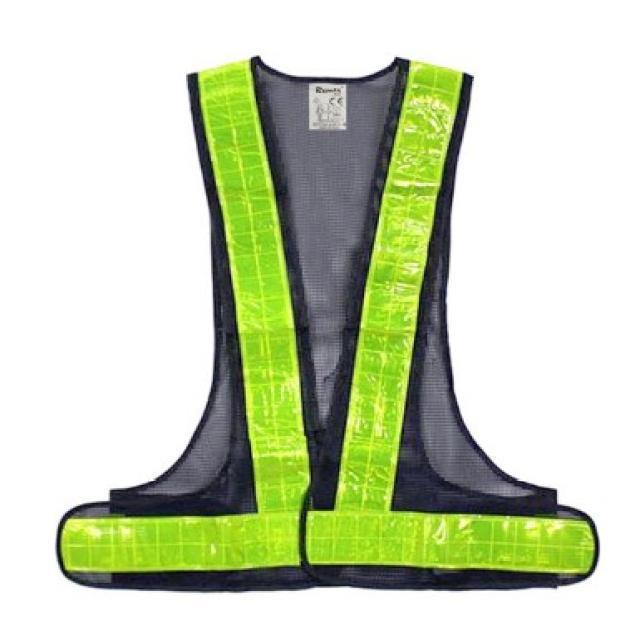safety_helmet: (67, 67, 600, 586)
